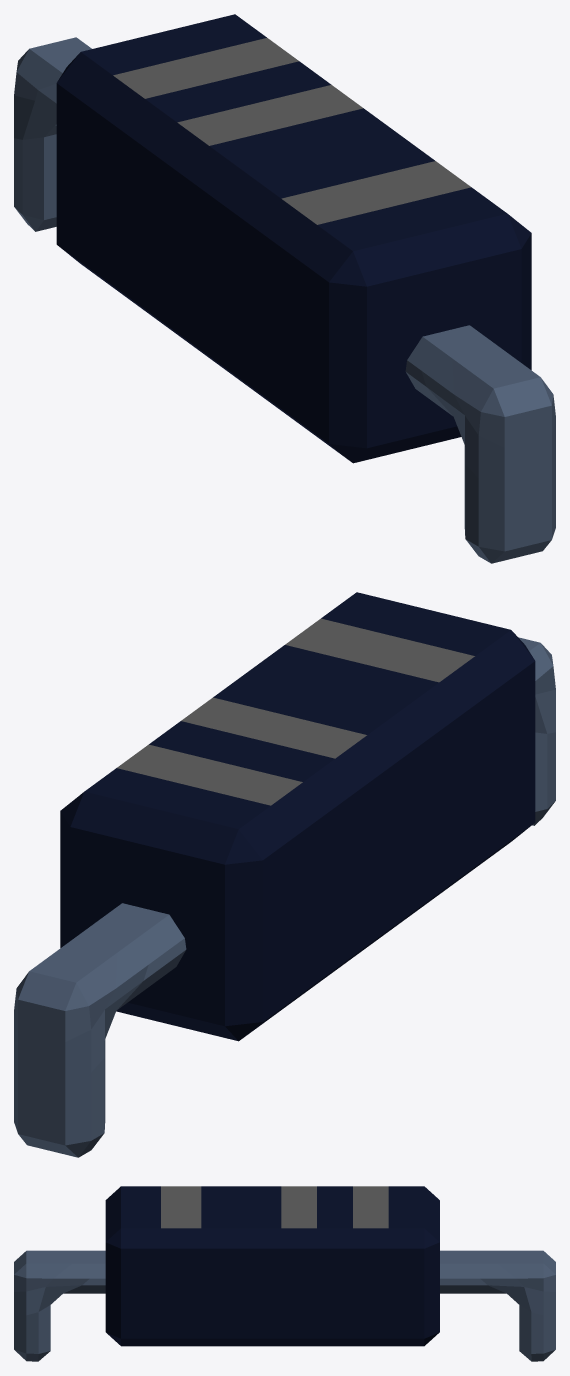
The picture shows the model from 3 angles, top to bottom: view 1: azimuth 30°, elevation 25°; view 2: azimuth 150°, elevation 25°; view 3: azimuth 270°, elevation 25°; orthographic projection. The views are drawn at different scales.
Parts seen in each view (by area): view 1: C 3; view 2: C 3; view 3: C 3.
Part boxes in pixels (left/top/right/bottom): C 3: left=14, top=14, right=555, bottom=563; C 3: left=14, top=592, right=555, bottom=1157; C 3: left=14, top=1186, right=555, bottom=1361.
Bounding box in the file's own units: 12.63 × 15.67 × 52.52.
